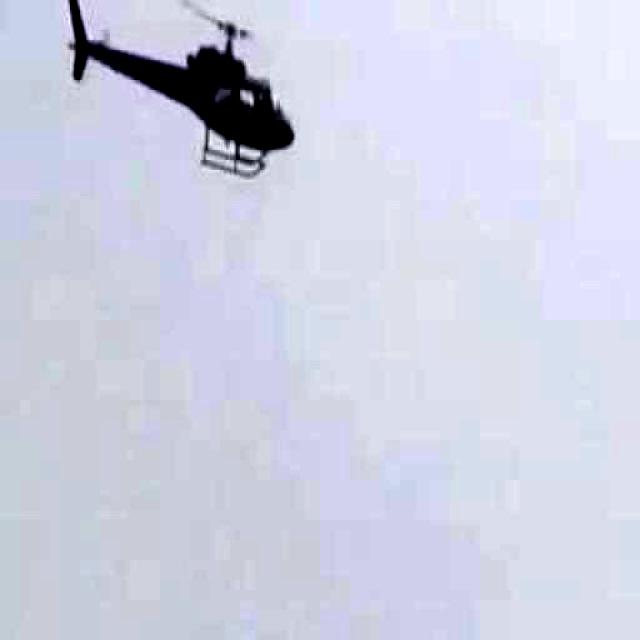drone: (52, 0, 302, 198)
